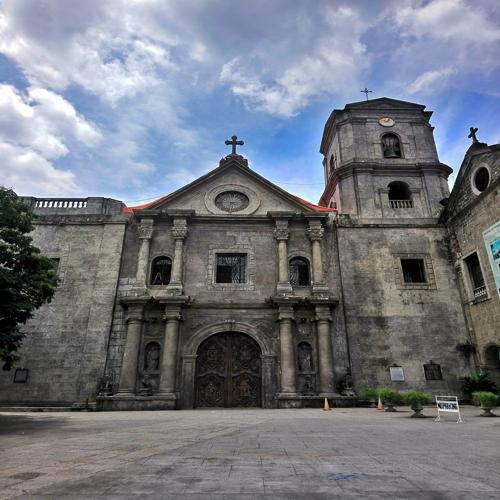San Agustin Church: (107, 73, 481, 426)
